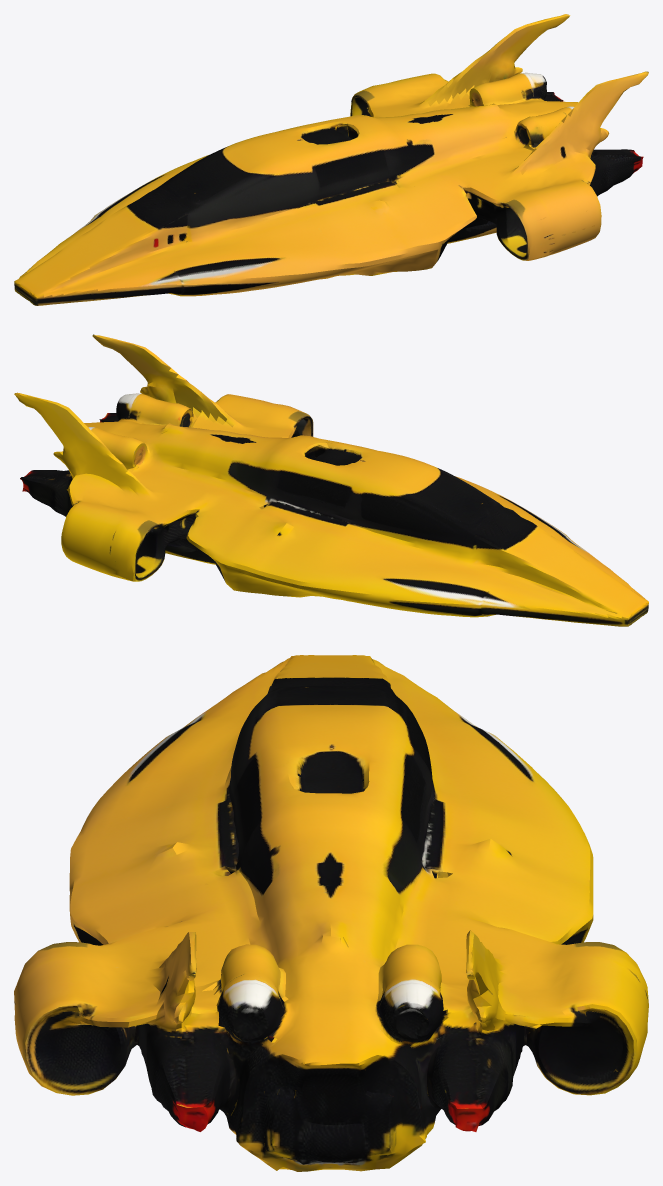
Rendered from ship15.glb.
3 views of the same model, one above another, from view 1: azimuth 30°, elevation 25°; view 2: azimuth 150°, elevation 25°; view 3: azimuth 270°, elevation 25° (orthographic). The views are drawn at different scales.
Parts seen in each view (by area): view 1: Mesh0; view 2: Mesh0; view 3: Mesh0.
Boxes of the visible parts, x1=… form: Mesh0: x1=14, y1=14, x2=648, y2=305; Mesh0: x1=14, y1=334, x2=648, y2=626; Mesh0: x1=14, y1=655, x2=648, y2=1171.
Size of the model in its own units: 1.91 by 0.4526 by 1.02.
1 material, 1 textured.
